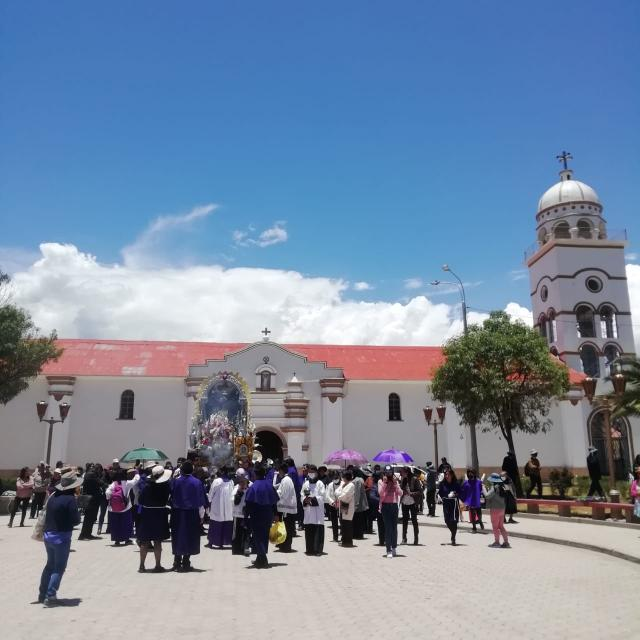CAMPANARIO: (520, 247, 639, 398)
CUPULA: (513, 174, 614, 242)
TORRES: (536, 155, 640, 542)
colonial-architecture-: (11, 141, 638, 553)
